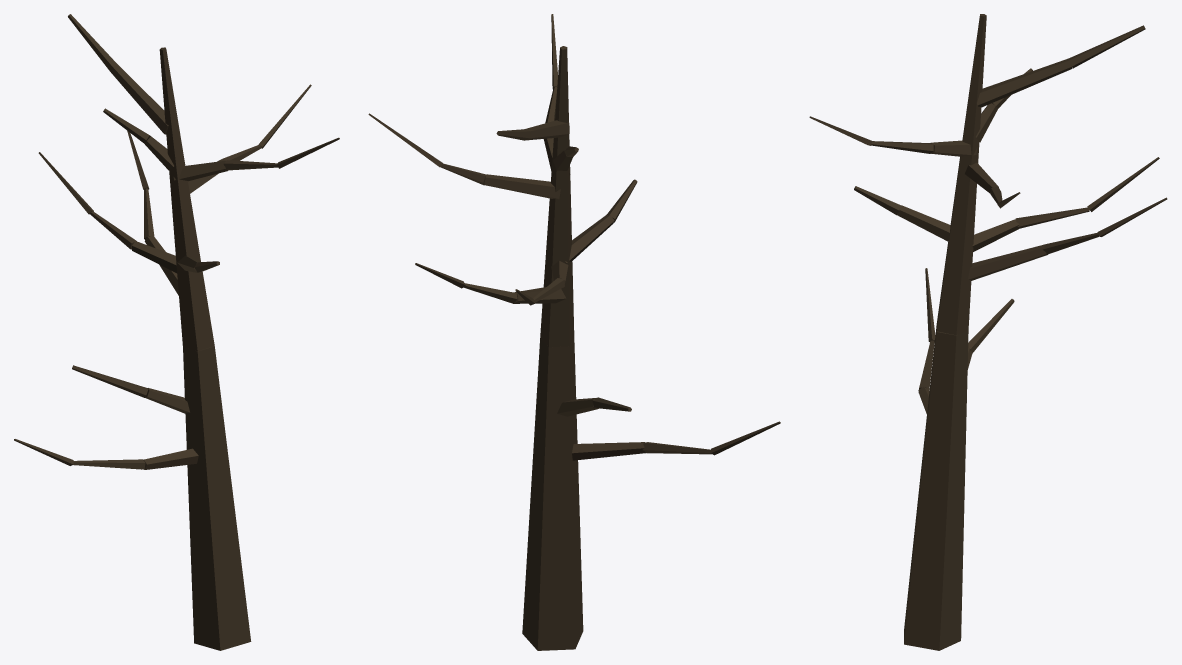
Rendered from tree_dead_1_mid.glb.
The picture shows the model from 3 angles, left to right: view 1: azimuth 30°, elevation 25°; view 2: azimuth 150°, elevation 25°; view 3: azimuth 270°, elevation 25°; orthographic projection. The views are drawn at different scales.
Parts seen in each view (by area): view 1: wood; view 2: wood; view 3: wood.
Part boxes in pixels (bbox=[...]): wood: bbox=[14, 14, 339, 650]; wood: bbox=[368, 14, 780, 650]; wood: bbox=[809, 14, 1167, 650].
Bounding box in the file's own units: 4.44 × 7.22 × 3.85.
